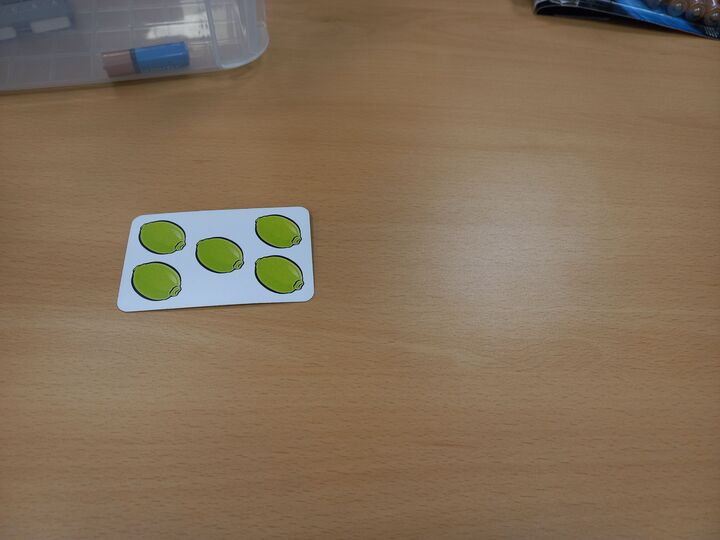lime5: (115, 203, 320, 314)
